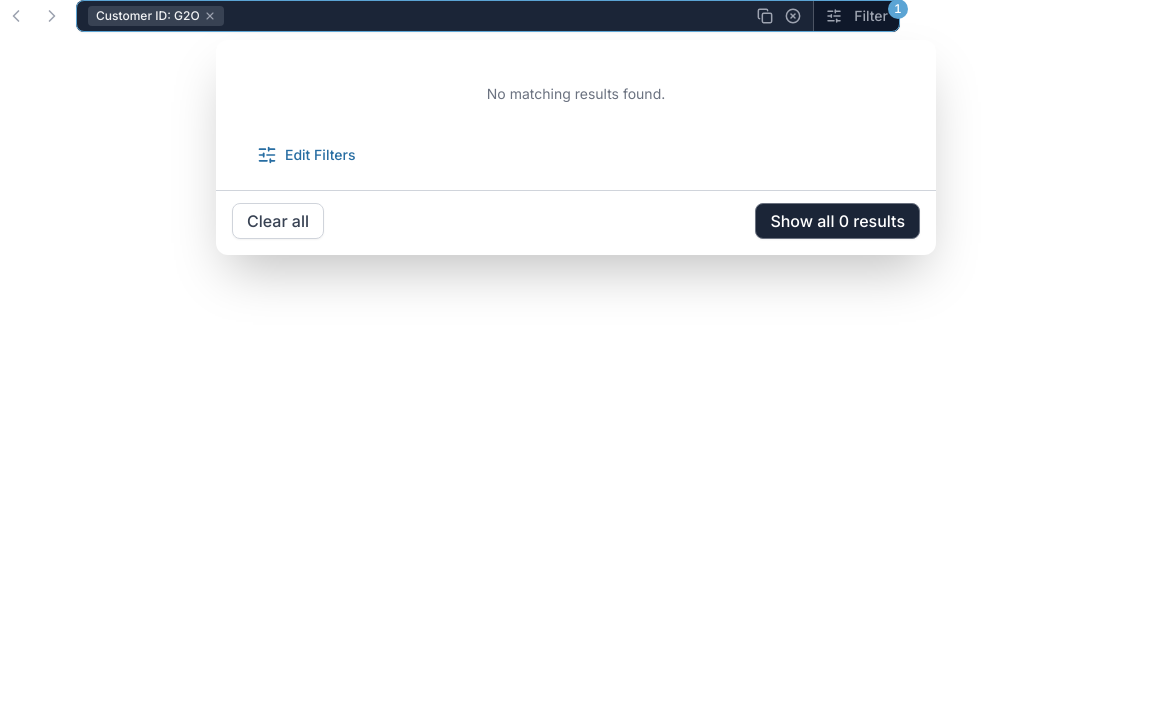
Test: ShipmentsGlobalSearch — Save Filter modal keyboard trap (S108 1b) › Escape closes the modal only — the Filters panel stays open
Click the button with class "filter-button": coordinates (857, 16) left=813, top=0, right=900, bottom=32
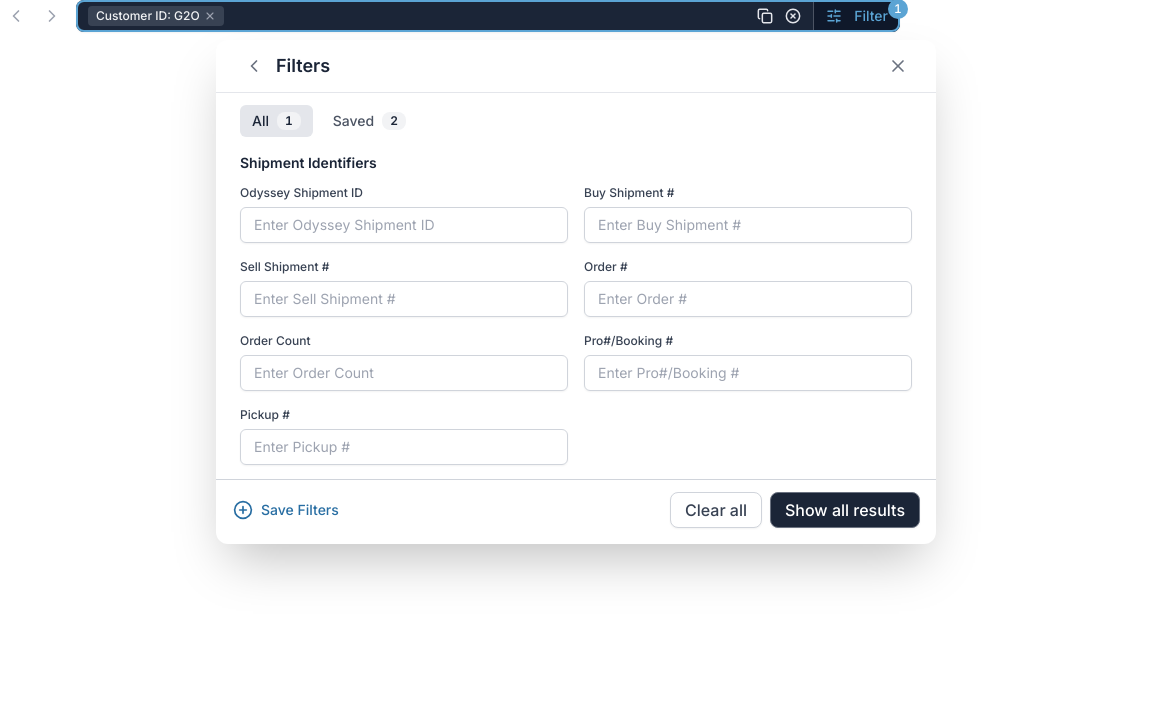
Click the button "Save Filters": coordinates (286, 510) left=232, top=499, right=340, bottom=521
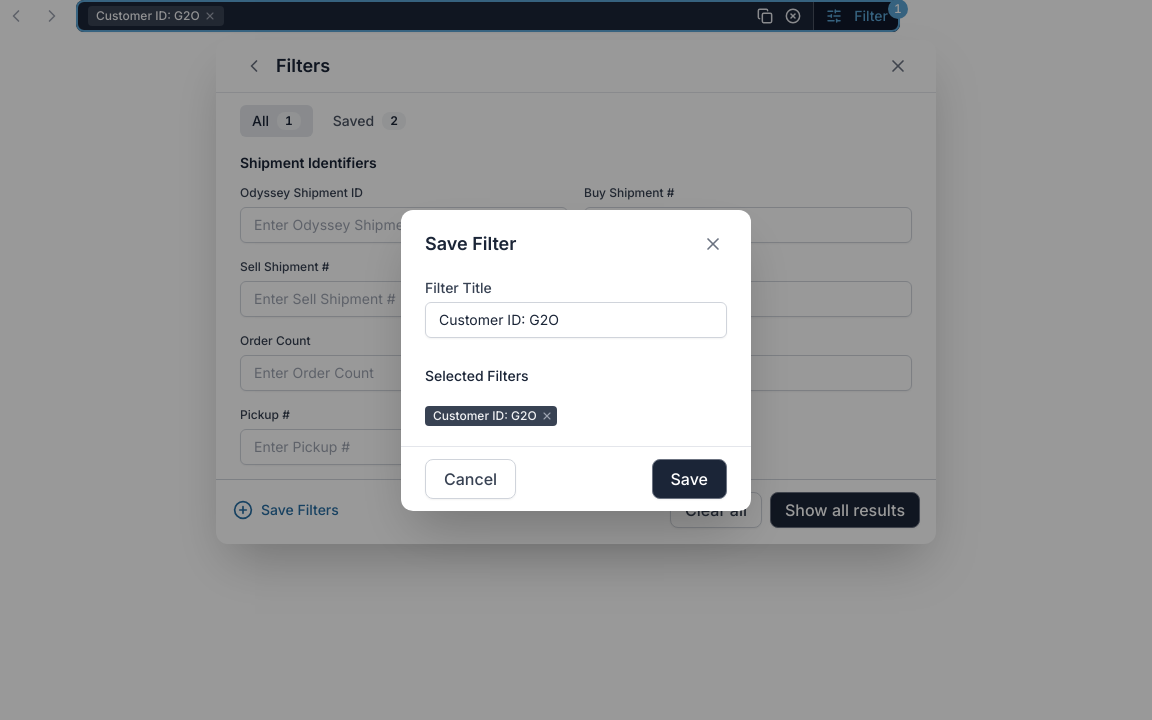
Check: the element with class "shipments-results-panel" is shown, box left=216, top=40, right=936, bottom=544
Check: the dialog is shown, box left=401, top=210, right=751, bottom=510
Press Escape
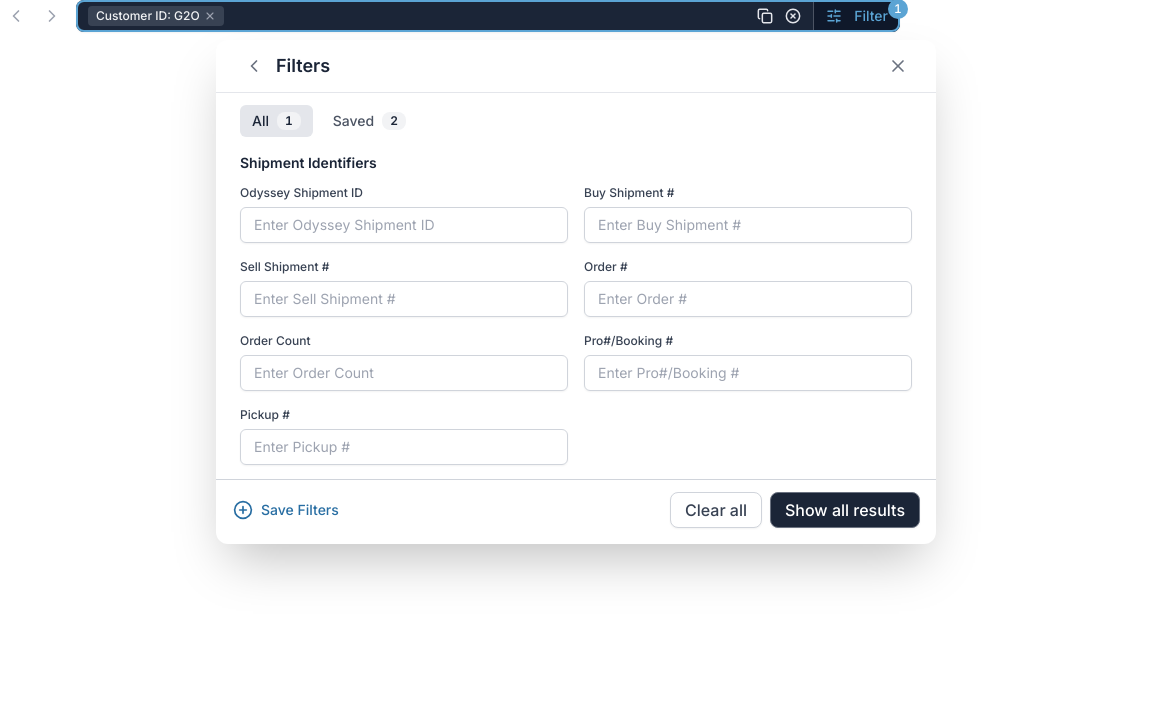
Check: the element with class "shipments-results-panel" is shown, box left=216, top=40, right=936, bottom=544
Check: the dialog is gone
